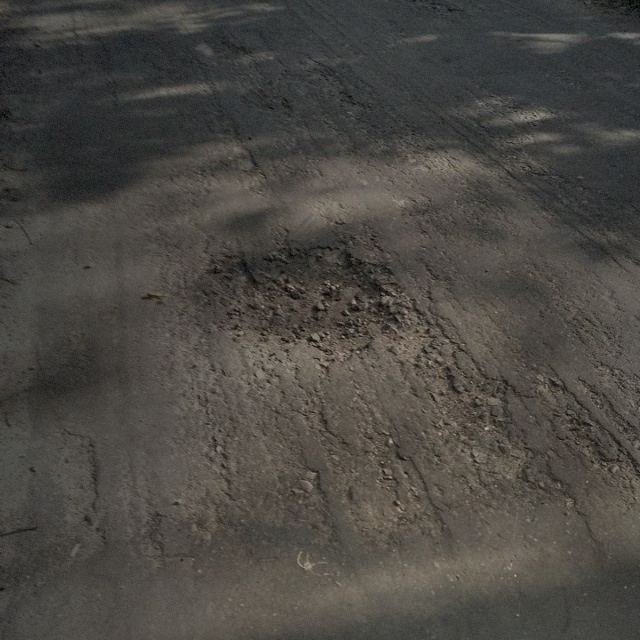pothole: (205, 241, 404, 358)
